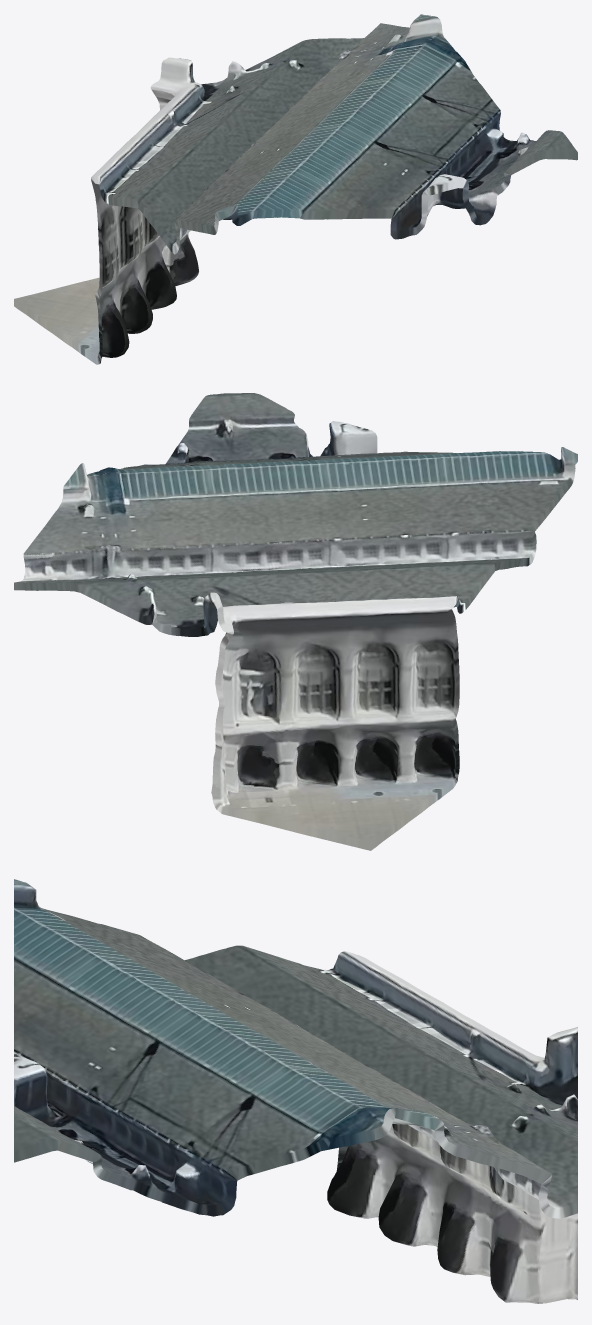
File: z20-167791-405221-h0-yup-uvflip-v3-world.glb
3 renders of one model, top to bottom at view 1: azimuth 30°, elevation 25°; view 2: azimuth 150°, elevation 25°; view 3: azimuth 270°, elevation 25°, orthographic. The views are drawn at different scales.
Bounding box in the file's own units: 30.16 × 20.28 × 30.32.
Materials: 1 (1 with a texture image).
